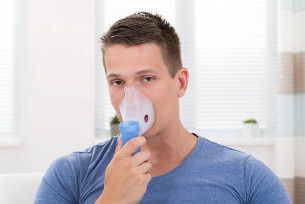Mask: (101, 67, 174, 140)
